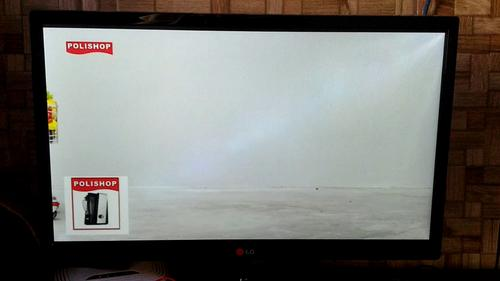Polishop #1: (64, 176, 127, 235)
